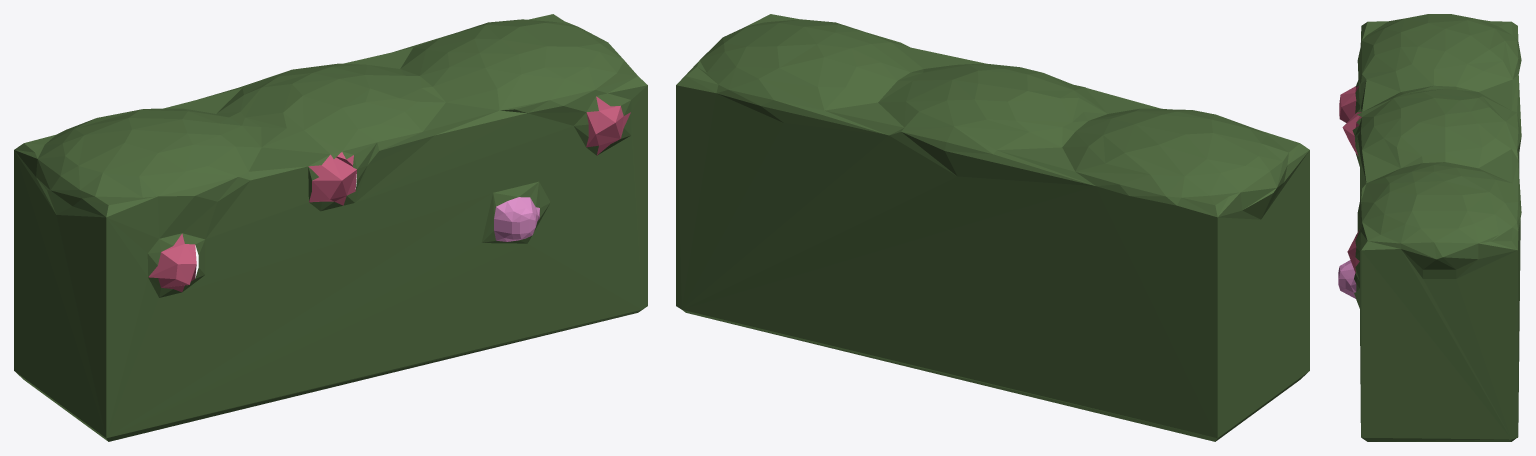
Rendered from hedge.glb.
3 views of the same model, side by side, from view 1: azimuth 30°, elevation 25°; view 2: azimuth 150°, elevation 25°; view 3: azimuth 270°, elevation 25° (orthographic). The views are drawn at different scales.
Visible parts, largest first — view 1: hedge; view 2: hedge; view 3: hedge.
Boxes of the visible parts, x1,y1,x2,y2 form: hedge: [14, 14, 647, 441]; hedge: [676, 14, 1309, 441]; hedge: [1338, 14, 1521, 441].
Bounding box in the file's own units: 2.5 × 1.11 × 0.8268.
